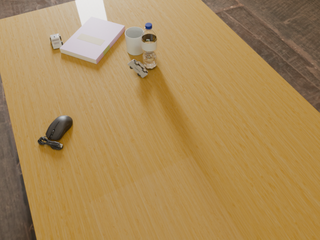book: (60, 17, 125, 64)
bottle: (141, 23, 157, 69)
cup: (125, 27, 144, 55)
mouse: (38, 116, 73, 150)
toy_car: (128, 60, 148, 78), (50, 34, 63, 49)
